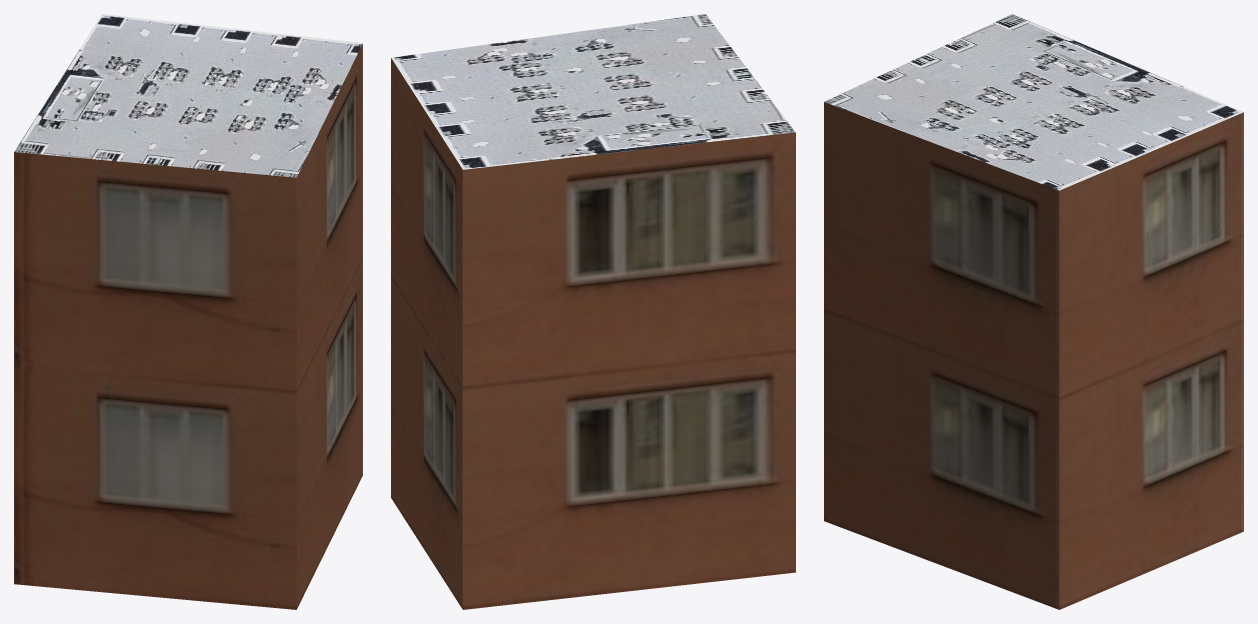
Rendered from ResTex__1250.fbx.
The picture shows the model from 3 angles, left to right: view 1: azimuth 30°, elevation 25°; view 2: azimuth 150°, elevation 25°; view 3: azimuth 270°, elevation 25°; orthographic projection. The views are drawn at different scales.
Parts seen in each view (by area): view 1: CityEngineMaterial_20_m, CityEngineMaterial_2_m; view 2: CityEngineMaterial_20_m, CityEngineMaterial_2_m; view 3: CityEngineMaterial_20_m, CityEngineMaterial_2_m.
Boxes of the visible parts, box(x1,y1,x2,y2) form: CityEngineMaterial_20_m: box(14, 43, 362, 609); CityEngineMaterial_2_m: box(14, 14, 362, 177); CityEngineMaterial_20_m: box(391, 58, 795, 609); CityEngineMaterial_2_m: box(391, 14, 795, 169); CityEngineMaterial_20_m: box(824, 102, 1243, 609); CityEngineMaterial_2_m: box(824, 14, 1243, 190).
Size of the model in its own units: 5.42 by 6 by 5.45.
2 materials, 2 textured.
